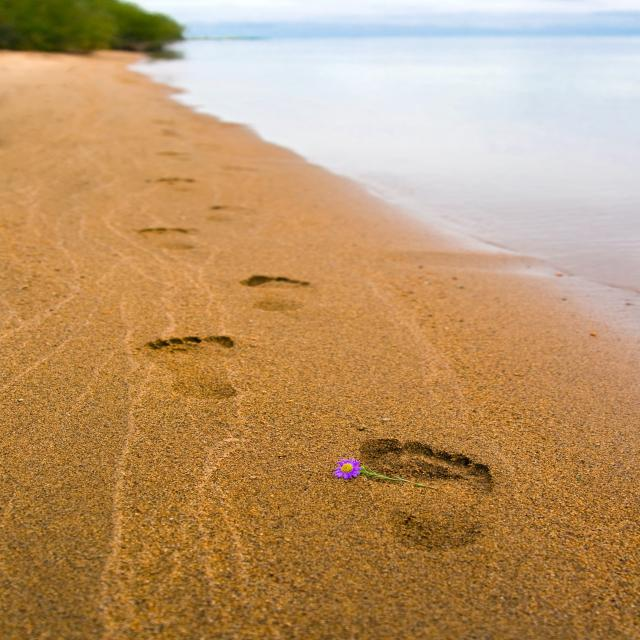human_foot_print: (109, 104, 543, 586)
